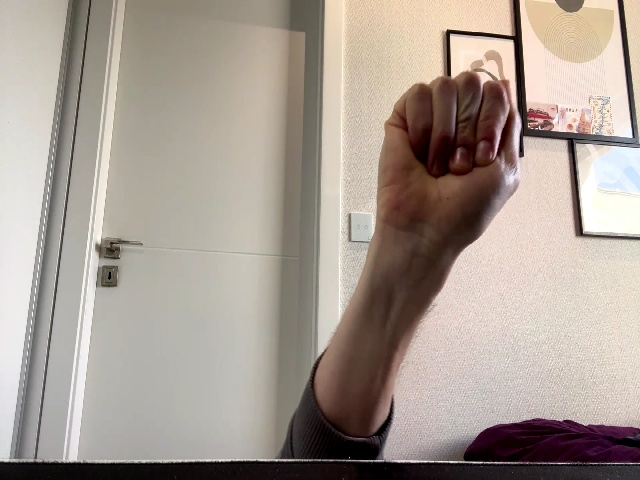A: (376, 72, 522, 246)
